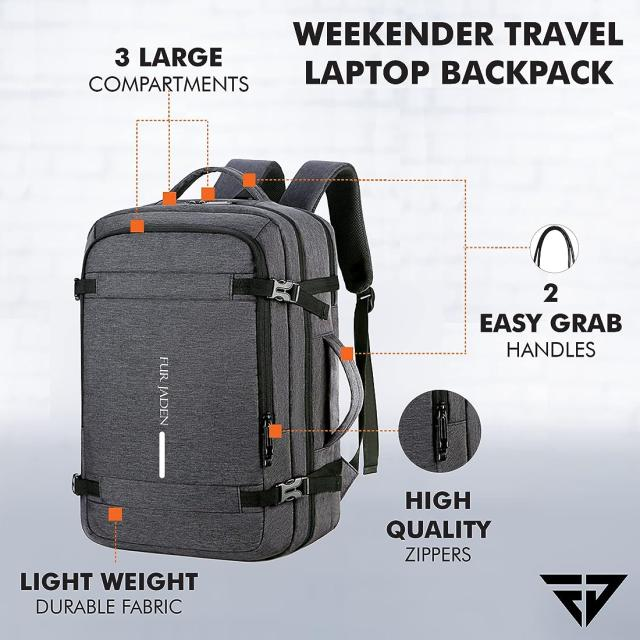backpack: (73, 159, 380, 563)
